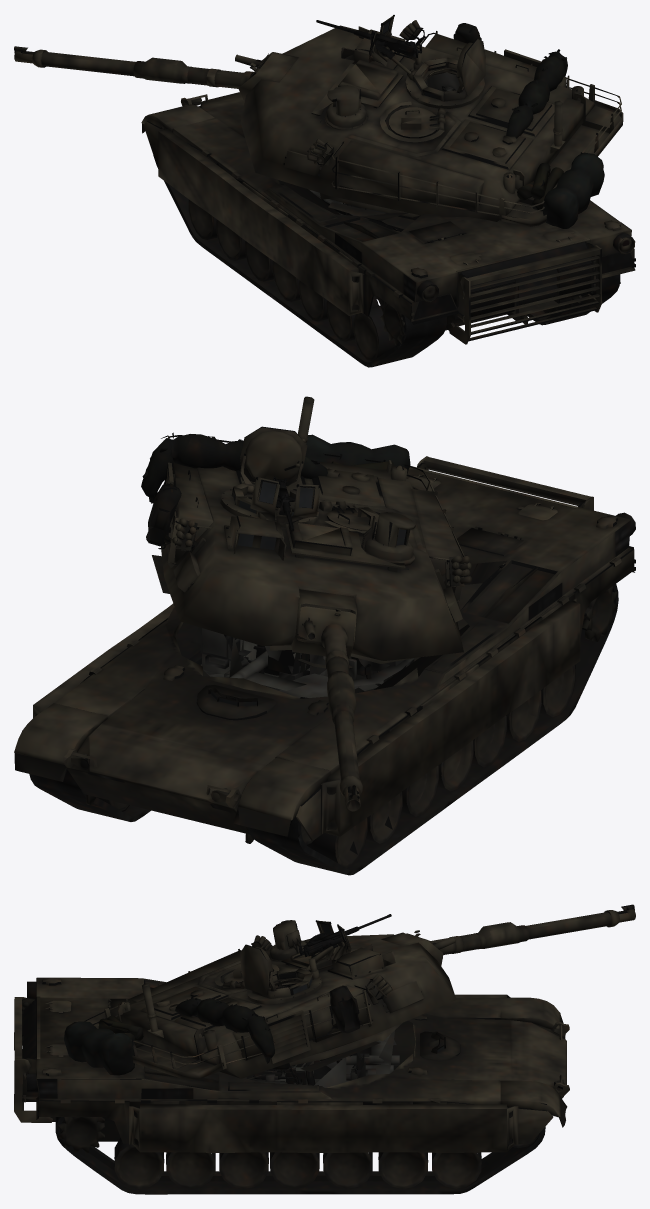
The model's file is abrams-wreck.glb.
3 views of the same model, one above another, from view 1: azimuth 30°, elevation 25°; view 2: azimuth 150°, elevation 25°; view 3: azimuth 270°, elevation 25° (orthographic). The views are drawn at different scales.
Parts seen in each view (by area): view 1: turret, hull, barrel; view 2: hull, turret, barrel; view 3: hull, turret, barrel.
Part boxes in pixels (x1=…): turret: x1=235, y1=15, x2=623, y2=229; hull: x1=141, y1=92, x2=635, y2=367; barrel: x1=14, y1=46, x2=268, y2=88; hull: x1=14, y1=456, x2=635, y2=875; turret: x1=141, y1=396, x2=472, y2=668; barrel: x1=297, y1=606, x2=362, y2=811; hull: x1=14, y1=977, x2=569, y2=1194; turret: x1=64, y1=914, x2=456, y2=1084; barrel: x1=406, y1=904, x2=635, y2=958.
Bounding box in the file's own units: 5.97 × 3.57 × 8.75.
Materials: 1 (1 with a texture image).
